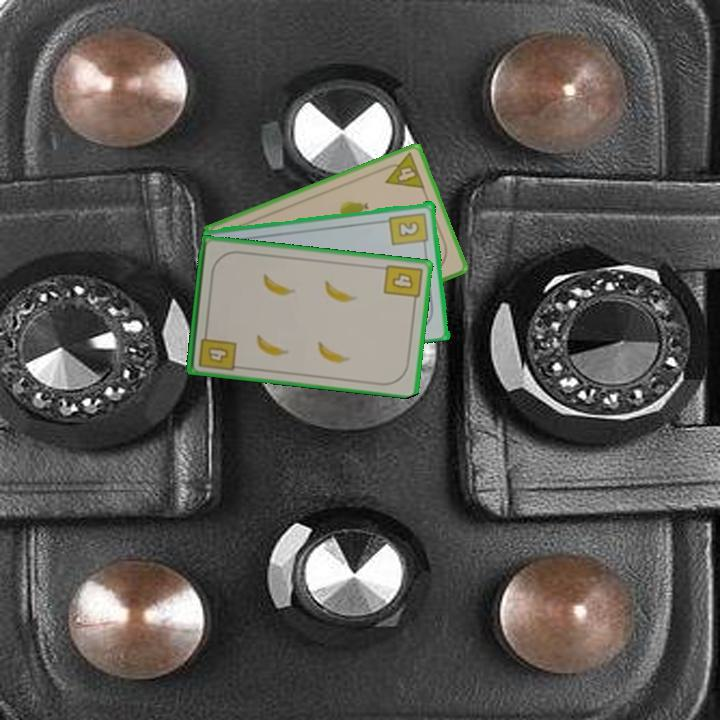2b: (386, 209, 431, 251)
4b: (380, 260, 425, 307), (194, 326, 239, 373)
4p: (377, 149, 428, 192)
